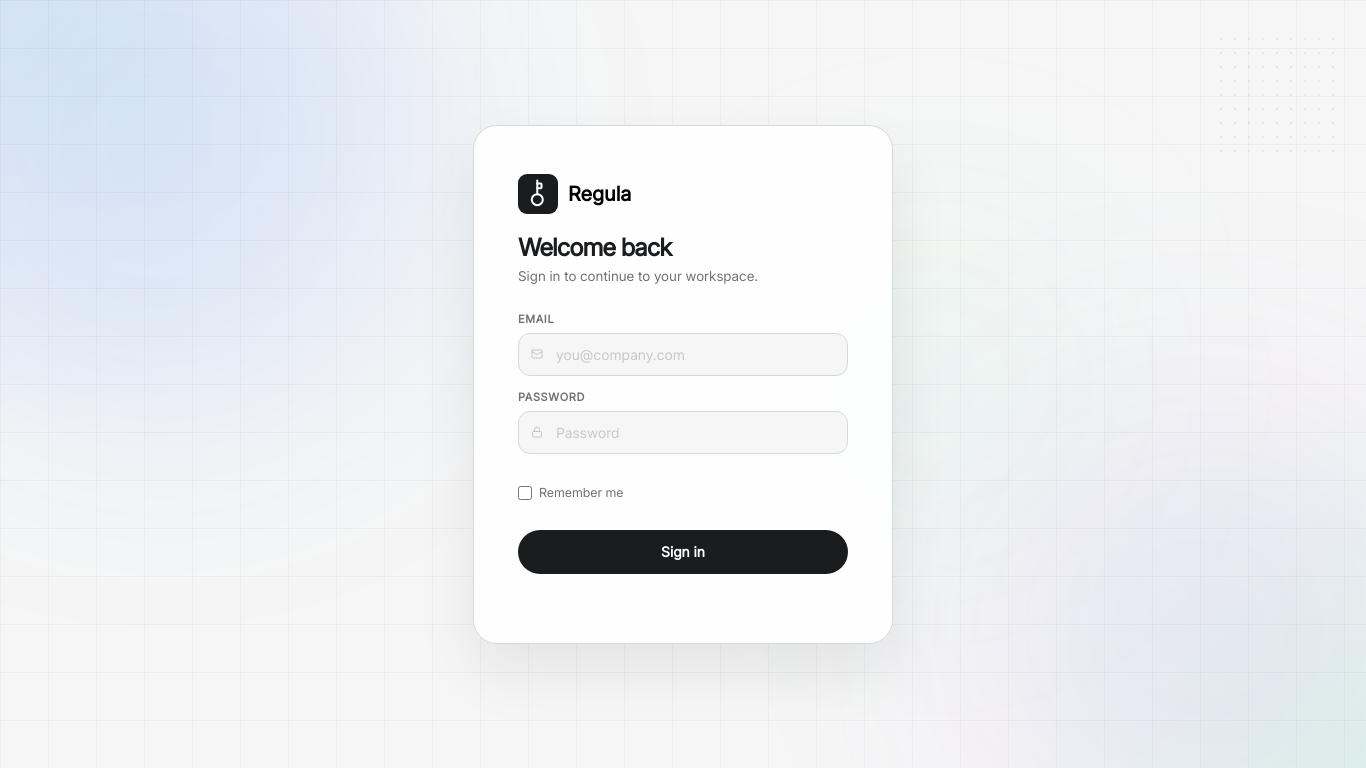
Test: Login view › signs in and redirects to the dashboard
Step 1. Type "admin@example.com" into the field labelled "Email" → coordinates (683, 354), box [518, 332, 848, 375]
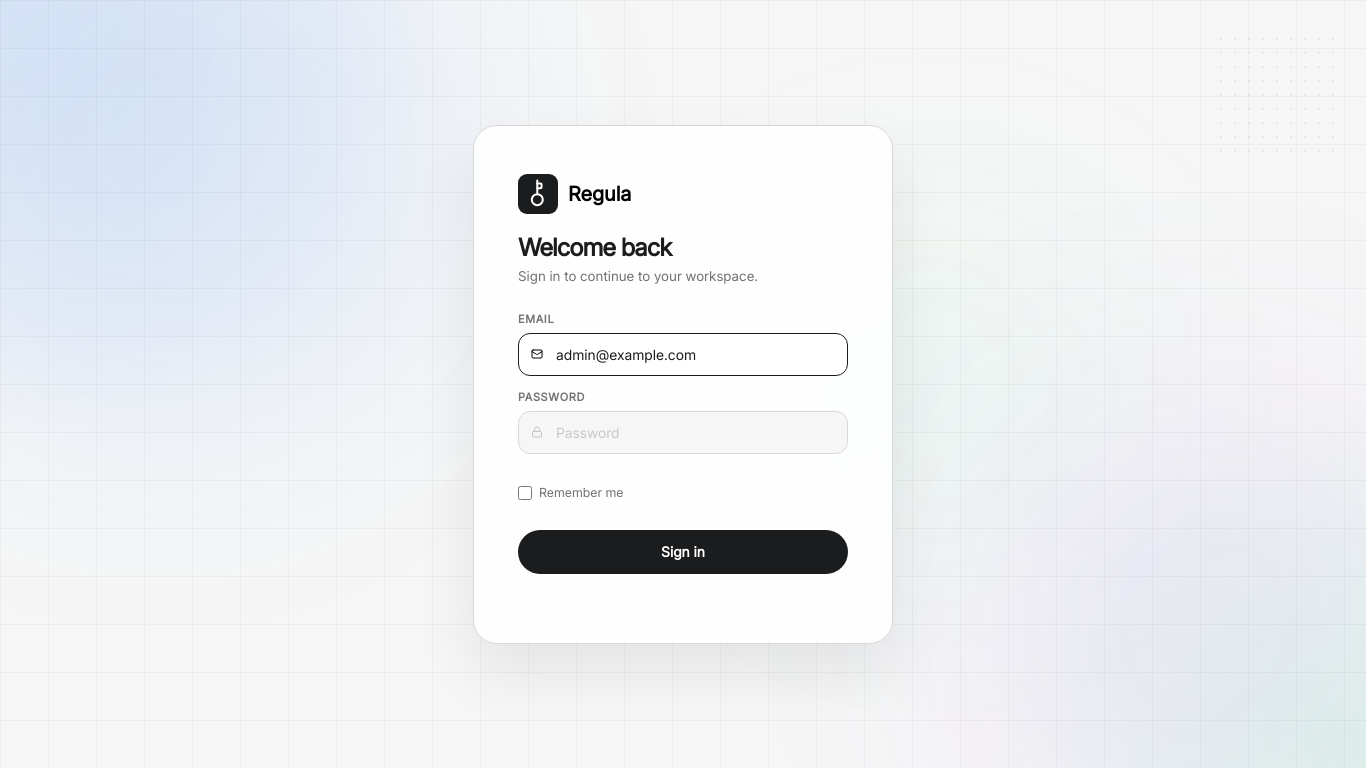
Step 2. Type "correct-horse-battery-staple" into the password field with placeholder "Password" → coordinates (683, 432), box [518, 410, 848, 453]
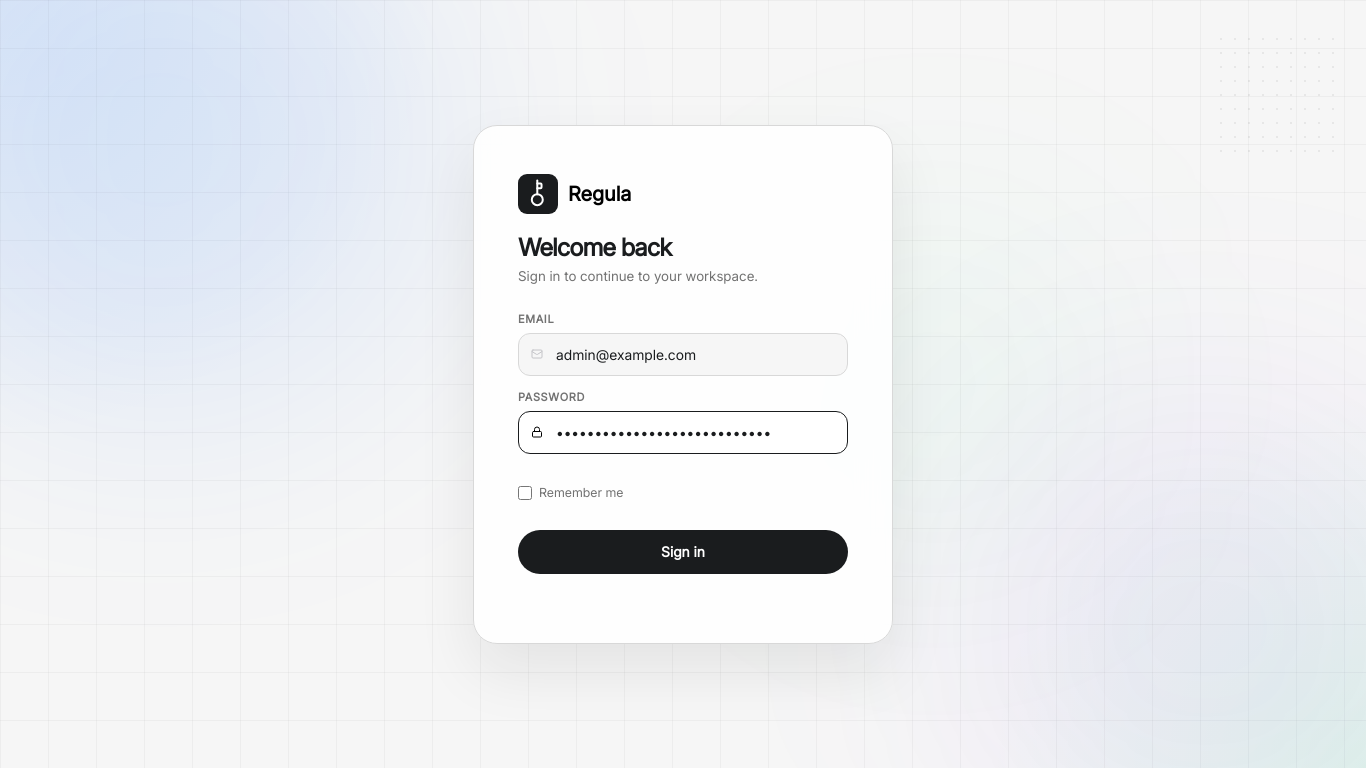
Step 3. Click the button "Sign in" → coordinates (683, 551), box [518, 529, 848, 573]
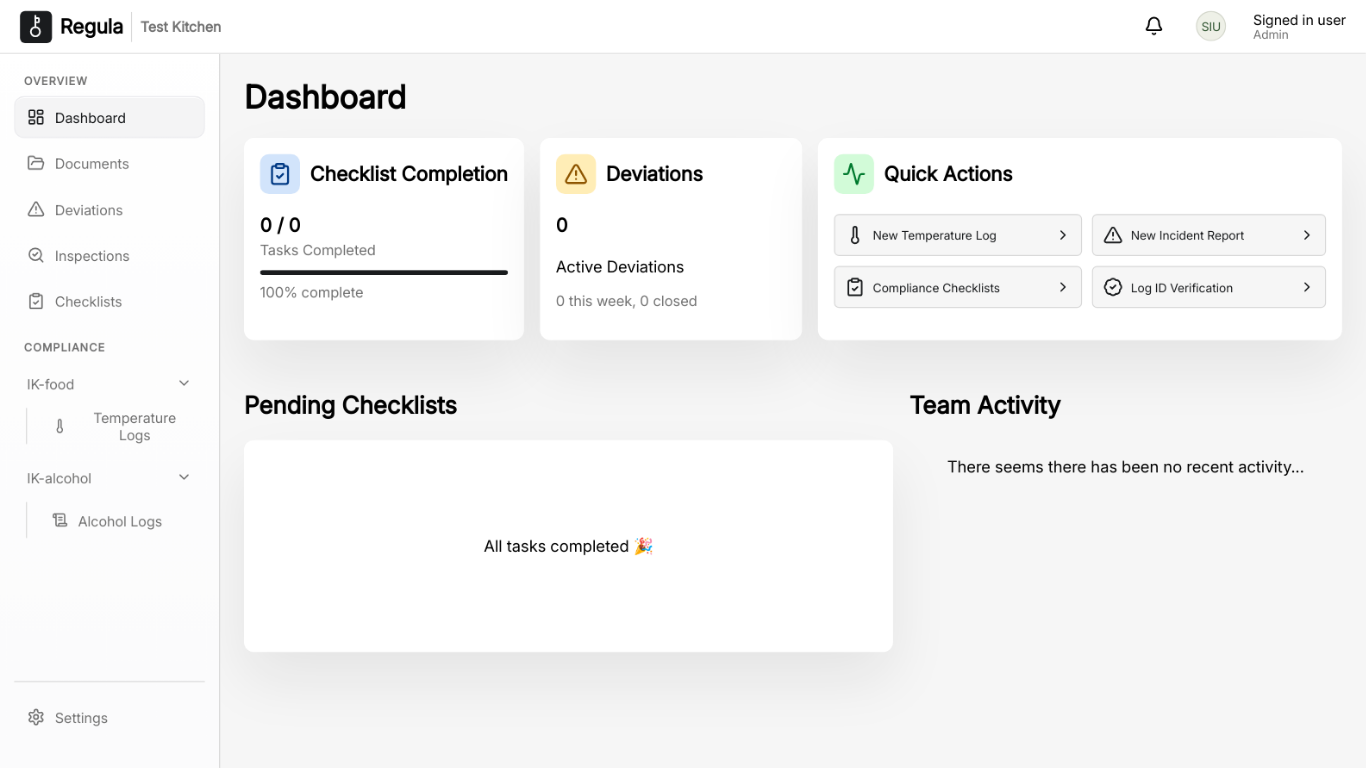
Result: the heading "Dashboard" is shown at [244, 78, 406, 117]
